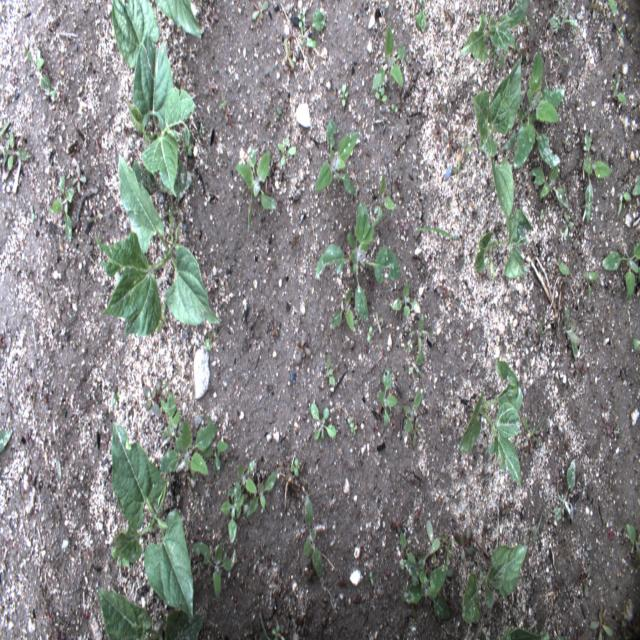crop: (94, 157, 219, 353), (110, 422, 205, 614), (110, 0, 196, 203), (457, 357, 545, 489), (470, 48, 529, 235), (514, 46, 565, 170), (461, 535, 528, 628), (99, 584, 206, 638), (460, 0, 533, 70), (472, 207, 533, 280), (153, 0, 202, 36), (499, 618, 551, 639), (0, 430, 12, 456)
weed: (314, 199, 400, 321), (398, 520, 454, 626), (160, 414, 229, 493), (234, 146, 276, 233), (314, 117, 359, 198), (580, 130, 613, 226), (219, 461, 255, 545), (191, 538, 236, 602), (601, 238, 640, 302), (372, 22, 408, 91), (48, 174, 78, 241), (23, 44, 58, 101), (302, 497, 324, 584), (1, 118, 33, 174), (404, 311, 429, 381), (528, 164, 567, 208), (158, 379, 182, 444), (552, 458, 575, 522), (376, 364, 399, 428), (251, 471, 278, 522), (390, 278, 420, 320), (310, 400, 338, 443), (548, 0, 579, 36), (402, 387, 424, 434), (329, 290, 354, 331), (617, 174, 640, 218), (300, 11, 327, 48), (622, 521, 640, 576), (375, 173, 397, 215), (610, 65, 628, 115), (565, 304, 581, 360), (588, 605, 614, 639), (276, 134, 297, 169), (415, 226, 462, 241), (436, 530, 455, 564), (615, 614, 638, 640), (398, 529, 415, 561), (582, 271, 600, 299), (530, 510, 544, 545), (455, 530, 470, 562), (581, 562, 593, 599), (414, 0, 427, 34), (606, 0, 623, 25), (442, 133, 460, 156), (250, 0, 270, 20), (324, 352, 335, 388), (563, 210, 575, 241), (260, 614, 274, 640), (284, 38, 294, 70), (289, 454, 301, 480), (376, 83, 388, 109), (453, 152, 462, 184), (145, 388, 157, 410), (340, 84, 350, 110), (556, 258, 571, 275), (552, 47, 569, 62), (347, 417, 359, 438), (110, 388, 120, 411), (269, 623, 283, 639), (538, 320, 549, 340), (0, 119, 11, 139), (590, 0, 602, 18), (412, 422, 420, 448), (462, 138, 474, 154), (630, 334, 640, 353), (298, 9, 306, 28), (614, 22, 624, 37), (218, 98, 228, 112), (198, 120, 206, 136), (479, 626, 488, 640), (366, 326, 373, 342), (390, 102, 399, 114), (540, 206, 546, 222), (369, 569, 374, 588), (276, 105, 282, 120), (31, 206, 35, 222)
